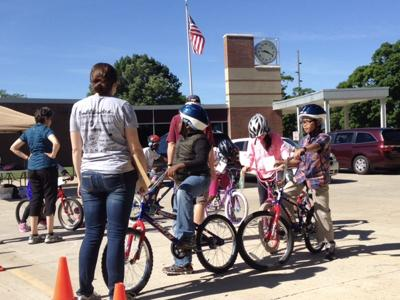With Helmet: (295, 99, 334, 141), (178, 103, 209, 136)
